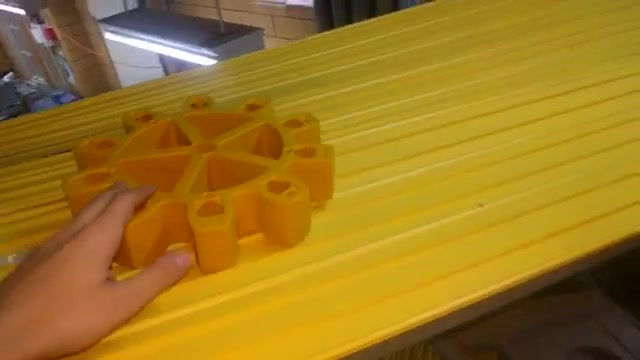gear: (45, 100, 349, 279)
